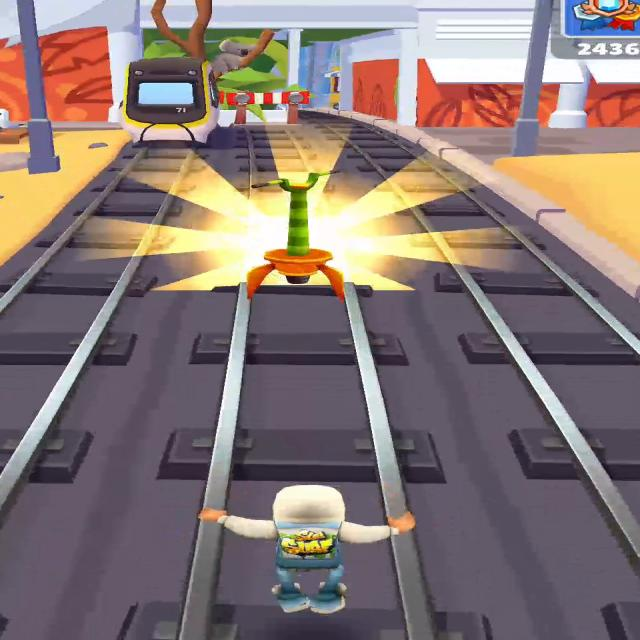block pillar: (215, 28, 310, 126)
train: (118, 57, 223, 146)
